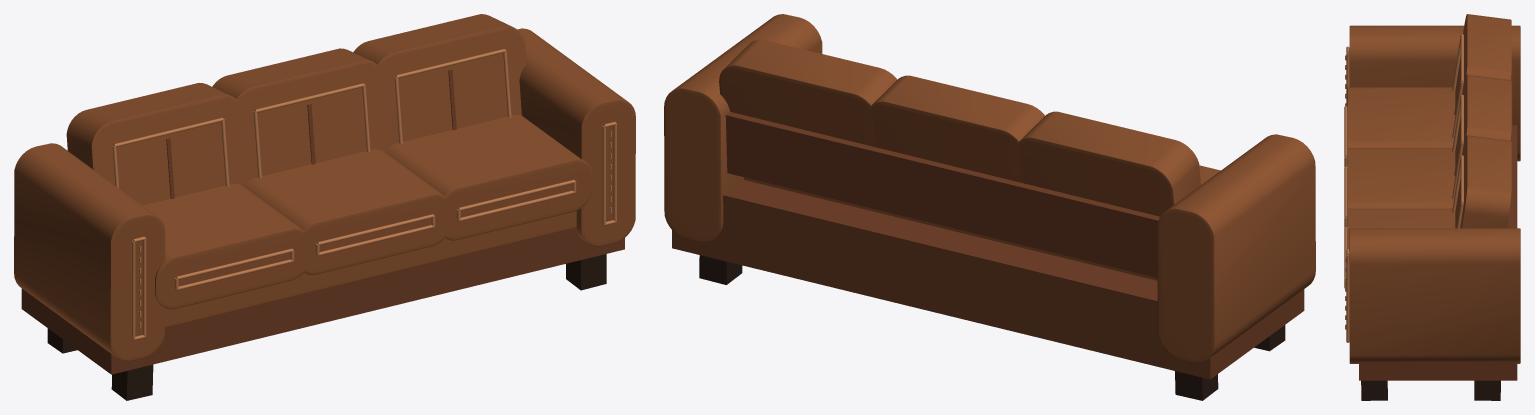
File: cognac-leather-sofa-bevelThickness-min.glb
The picture shows the model from 3 angles, left to right: view 1: azimuth 30°, elevation 25°; view 2: azimuth 150°, elevation 25°; view 3: azimuth 270°, elevation 25°; orthographic projection. The views are drawn at different scales.
Parts seen in each view (by area): view 1: sofa-part-28, sofa-part-4, seat-cushion-1-part-0, seat-cushion-2-part-0, back-cushion-2-part-0, back-cushion-3-part-0, back-cushion-1-part-0, seat-cushion-3-part-0, sofa-part-7, sofa-part-5, sofa-part-2, sofa-part-0; view 2: sofa-part-4, sofa-part-6, sofa-part-28, back-cushion-3-part-0, sofa-part-7, back-cushion-1-part-0, back-cushion-2-part-0, sofa-part-3, sofa-part-1, seat-cushion-3-part-0; view 3: sofa-part-7, sofa-part-28, seat-cushion-3-part-0, seat-cushion-2-part-0, back-cushion-1-part-0, sofa-part-4, back-cushion-3-part-0, back-cushion-2-part-0, seat-cushion-1-part-0, sofa-part-0, sofa-part-1, sofa-part-6 (+12 smaller).
Part boxes in pixels (bbox=[...]): sofa-part-28: bbox=[14, 143, 165, 361]; sofa-part-4: bbox=[21, 228, 624, 374]; seat-cushion-1-part-0: bbox=[384, 114, 592, 240]; seat-cushion-2-part-0: bbox=[243, 149, 448, 274]; back-cushion-2-part-0: bbox=[212, 48, 385, 183]; back-cushion-3-part-0: bbox=[66, 83, 244, 205]; back-cushion-1-part-0: bbox=[353, 14, 526, 150]; seat-cushion-3-part-0: bbox=[143, 183, 307, 309]; sofa-part-7: bbox=[517, 28, 635, 246]; sofa-part-5: bbox=[165, 211, 576, 327]; sofa-part-2: bbox=[111, 364, 153, 400]; sofa-part-0: bbox=[566, 254, 606, 290]; sofa-part-4: bbox=[672, 180, 1304, 379]; sofa-part-6: bbox=[725, 112, 1159, 277]; sofa-part-28: bbox=[1157, 134, 1315, 363]; back-cushion-3-part-0: bbox=[1018, 111, 1200, 216]; sofa-part-7: bbox=[664, 14, 822, 242]; back-cushion-1-part-0: bbox=[719, 39, 897, 147]; back-cushion-2-part-0: bbox=[871, 75, 1044, 183]; sofa-part-3: bbox=[1175, 371, 1218, 400]; sofa-part-1: bbox=[699, 255, 742, 284]; seat-cushion-3-part-0: bbox=[1036, 165, 1220, 280]; sofa-part-7: bbox=[1349, 228, 1520, 363]; sofa-part-28: bbox=[1349, 25, 1520, 161]; seat-cushion-3-part-0: bbox=[1347, 87, 1455, 147]; seat-cushion-2-part-0: bbox=[1347, 148, 1455, 208]; back-cushion-1-part-0: bbox=[1455, 135, 1511, 228]; sofa-part-4: bbox=[1359, 125, 1517, 380]; back-cushion-3-part-0: bbox=[1455, 14, 1511, 115]; back-cushion-2-part-0: bbox=[1455, 74, 1511, 175]; seat-cushion-1-part-0: bbox=[1347, 208, 1455, 249]; sofa-part-0: bbox=[1361, 380, 1387, 400]; sofa-part-1: bbox=[1474, 380, 1500, 400]; sofa-part-6: bbox=[1507, 60, 1512, 228].
Size of the model in its own units: 2.64 by 1.08 by 0.87.
